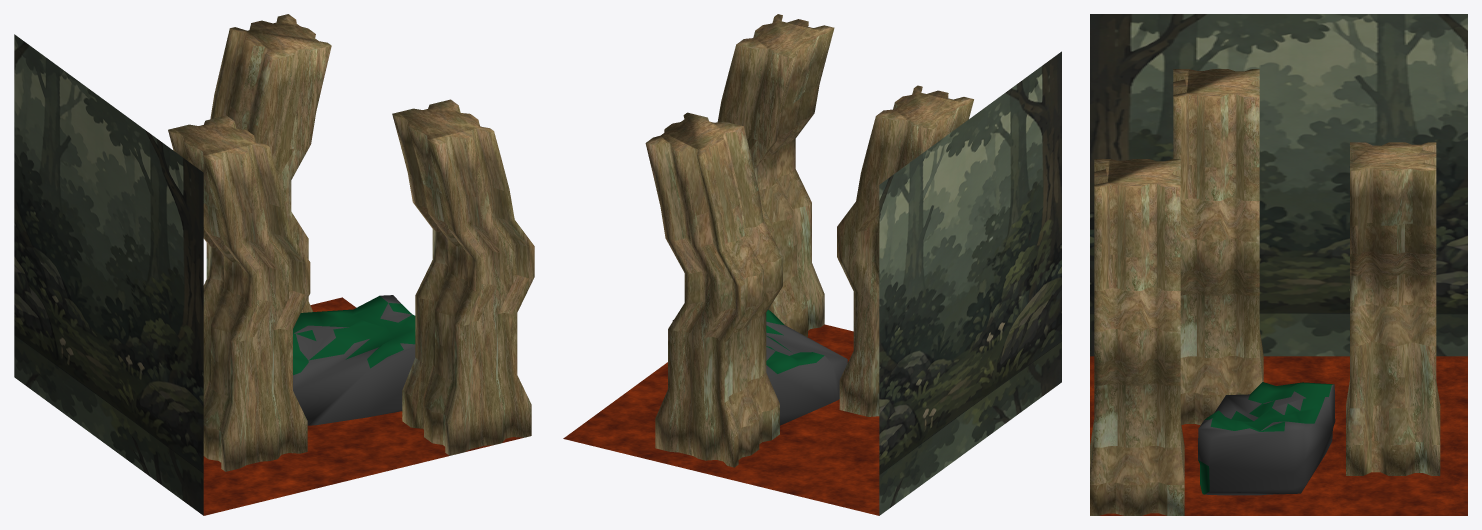
File: forest wall3.glb
3 renders of one model, left to right at view 1: azimuth 30°, elevation 25°; view 2: azimuth 150°, elevation 25°; view 3: azimuth 270°, elevation 25°, orthographic. The views are drawn at different scales.
Visible parts, largest first — view 1: wall, Cube, Cube.003, Cube.001, Cube.002; view 2: wall, Cube.001, Cube, Cube.003, Cube.002; view 3: wall, Cube, Cube.001, Cube.003, Cube.002.
Part boxes in pixels (bbox=[...]): wall: bbox=[14, 34, 523, 515]; Cube: bbox=[392, 99, 534, 455]; Cube.003: bbox=[168, 115, 310, 471]; Cube.001: bbox=[206, 14, 331, 312]; Cube.002: bbox=[293, 295, 415, 425]; wall: bbox=[563, 51, 1061, 515]; Cube.001: bbox=[645, 112, 782, 467]; Cube: bbox=[717, 14, 834, 336]; Cube.003: bbox=[837, 85, 973, 416]; Cube.002: bbox=[672, 309, 847, 425]; wall: bbox=[1090, 14, 1467, 515]; Cube: bbox=[1090, 159, 1184, 515]; Cube.001: bbox=[1346, 142, 1440, 475]; Cube.003: bbox=[1173, 69, 1263, 425]; Cube.002: bbox=[1198, 382, 1335, 495].
Size of the model in its own units: 2.03 by 2.08 by 2.
5 materials, 3 textured.
